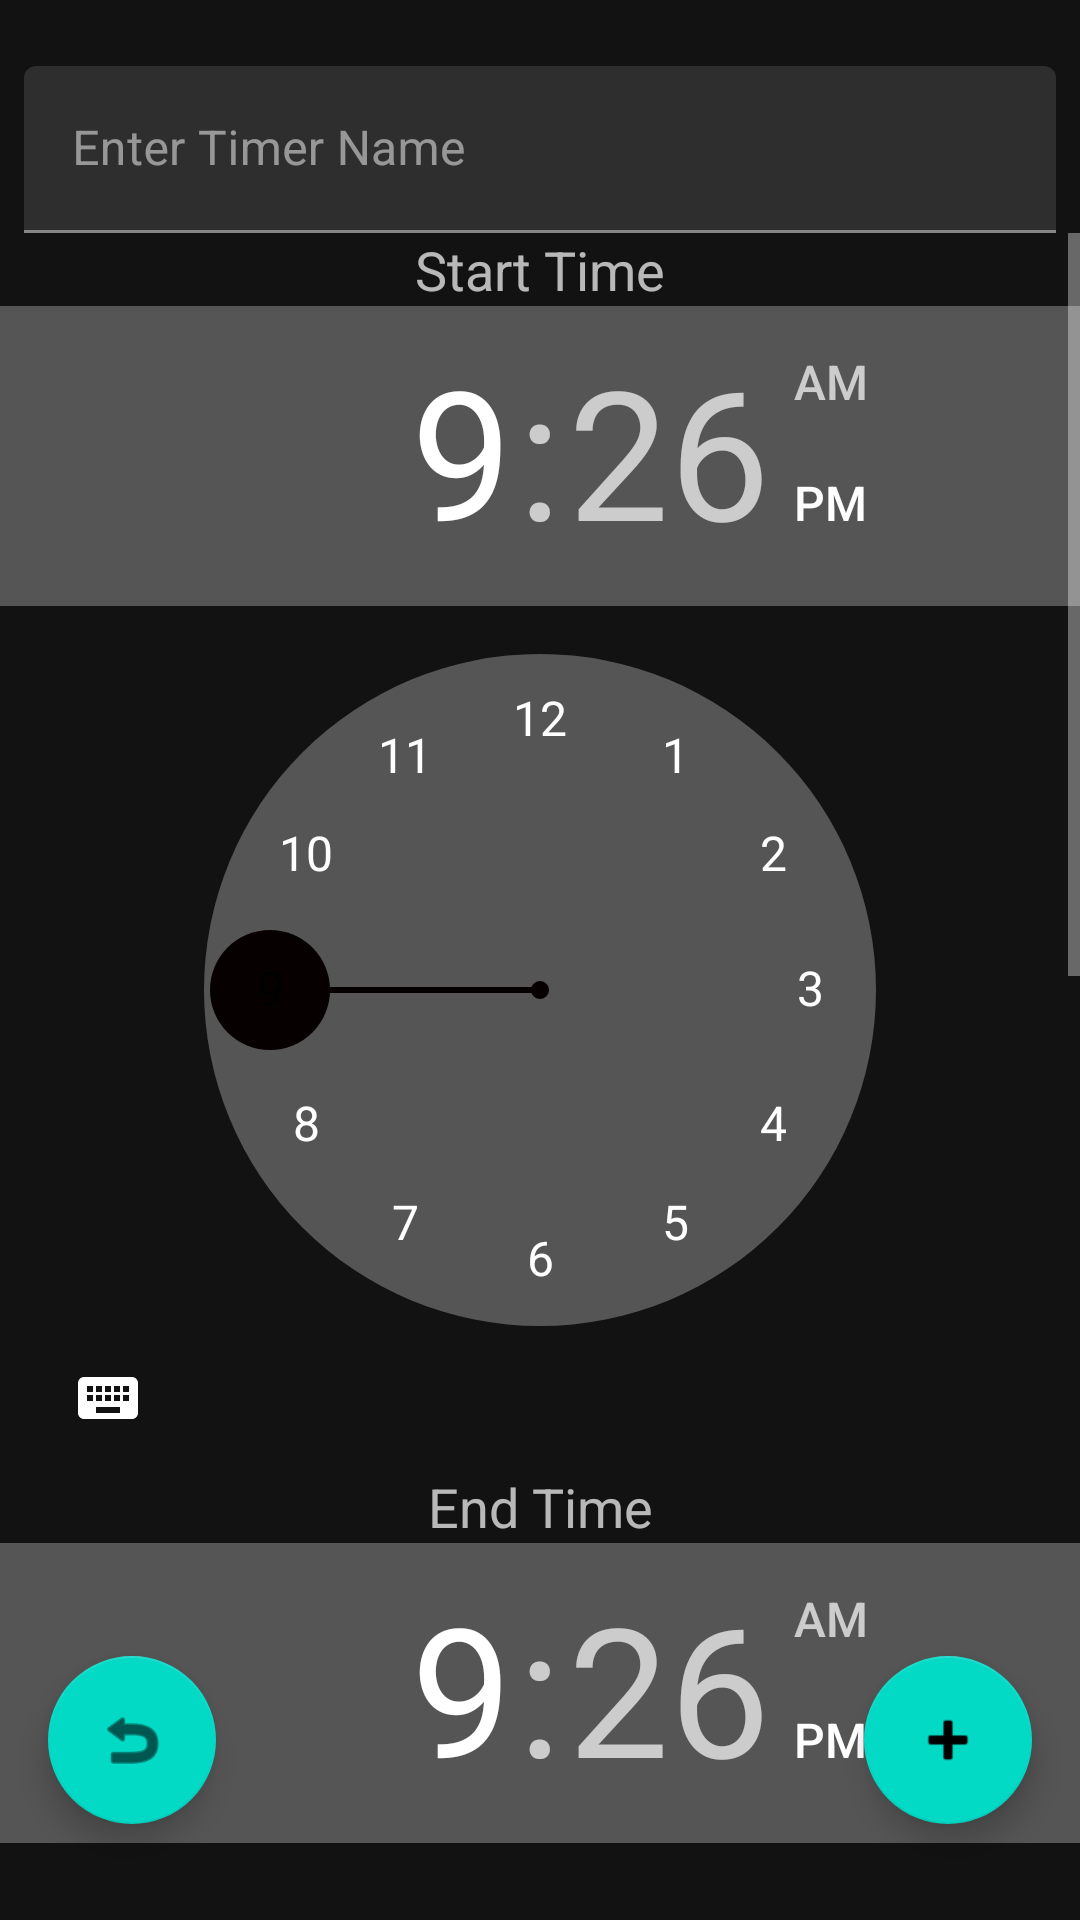

Named icons in this screenshot (1080 × 1920) and their bounding boxes, (left=x1, top=y1, right=x2, bottom=y2):
add: (left=864, top=1656, right=1032, bottom=1824)
revert: (left=48, top=1656, right=216, bottom=1824)
